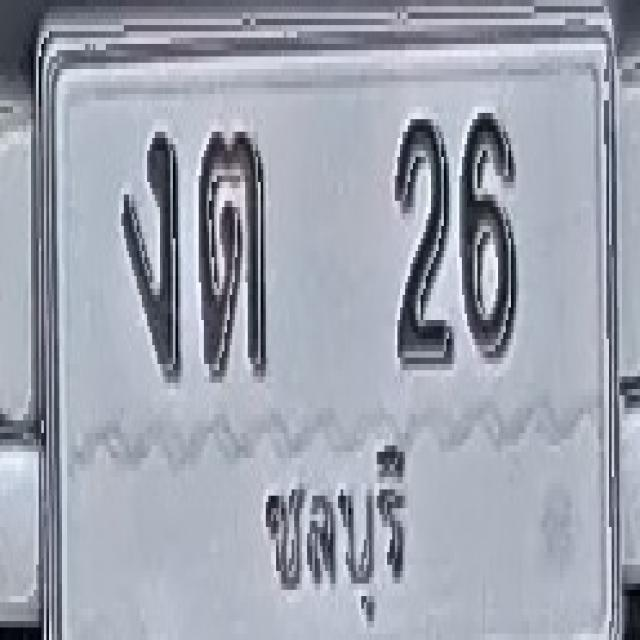-: (199, 126, 268, 377), (121, 126, 181, 377)
2: (394, 113, 452, 364)
6: (459, 106, 516, 358)
